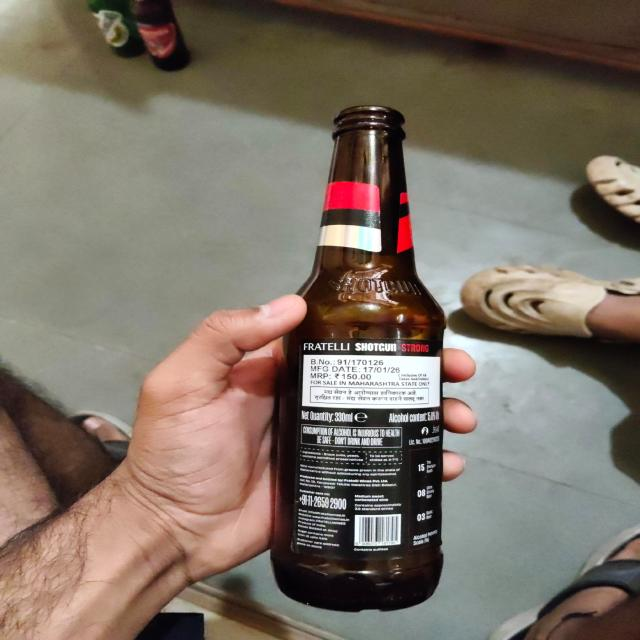Alcohol-Bottle-Detection: (263, 94, 465, 614), (262, 181, 451, 606)
